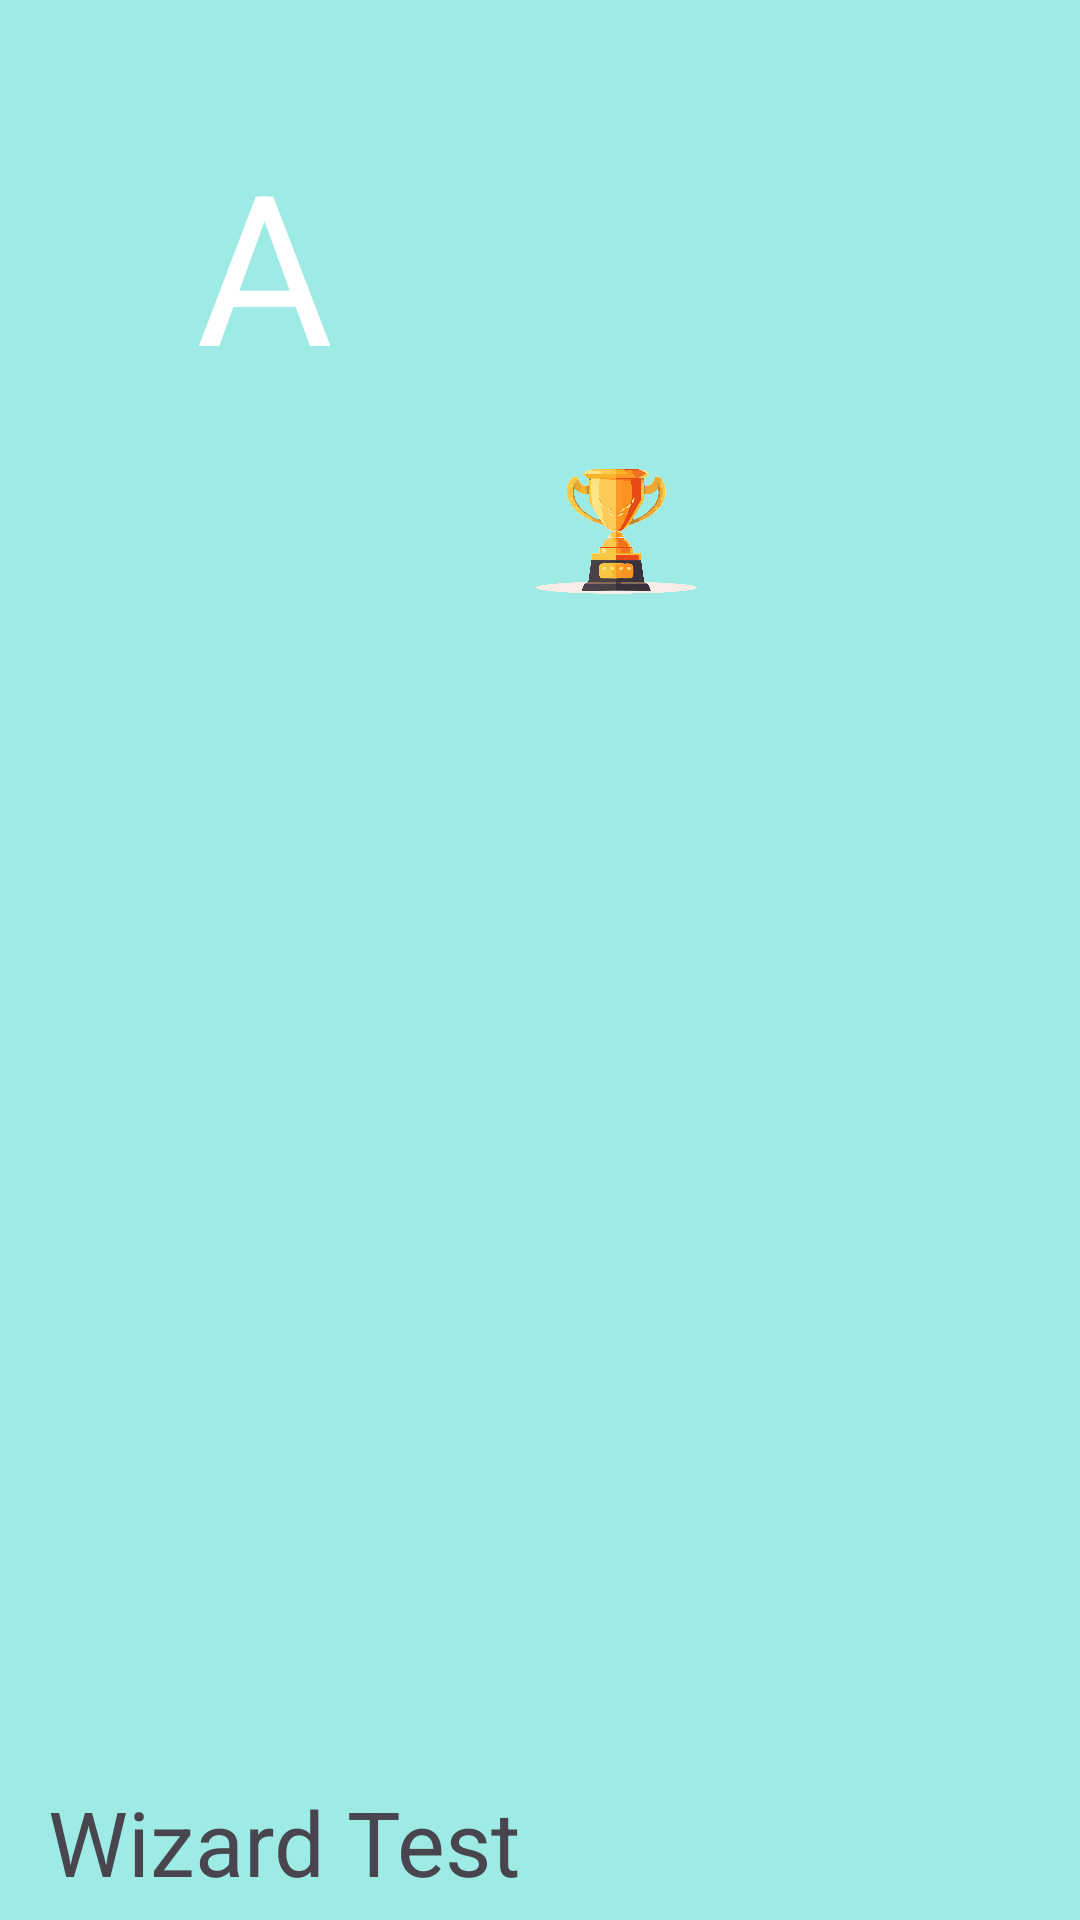

Icon bounding boxes for this 1080px x 1920px phone screenshot, format (x1,y1,x2,y2):
award: (536,469,697,594)
